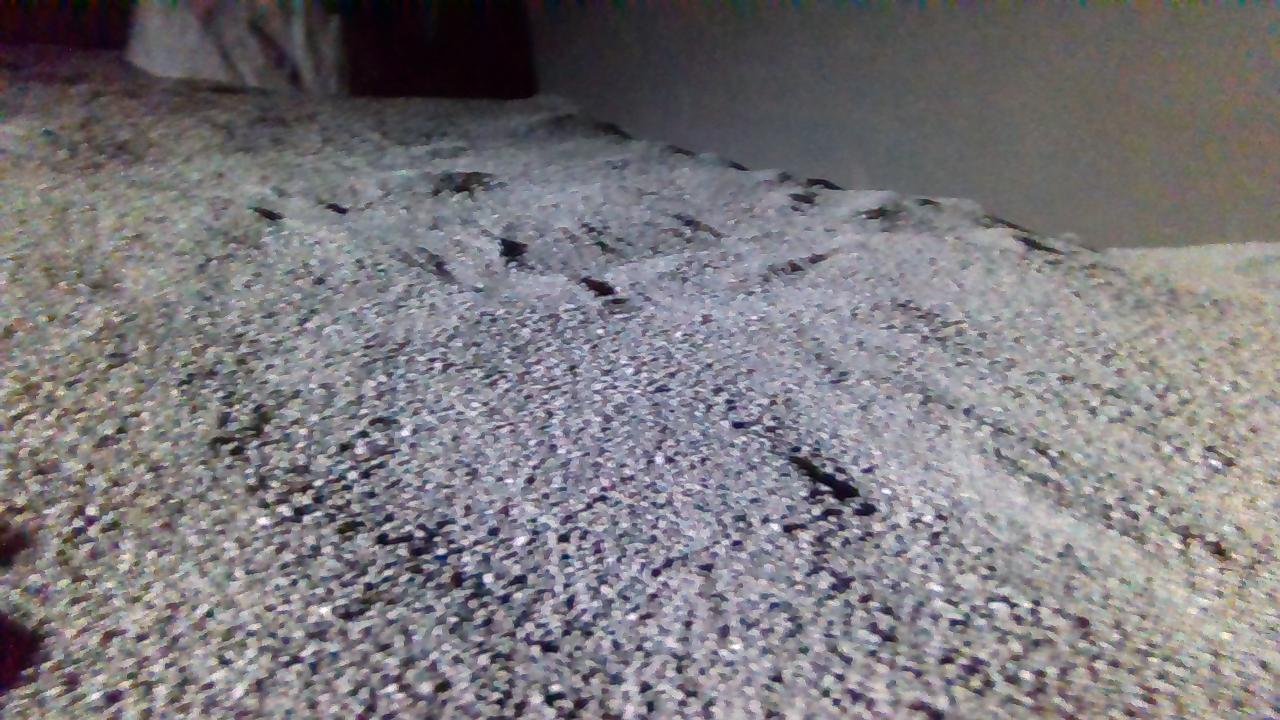rock: (125, 0, 343, 93)
